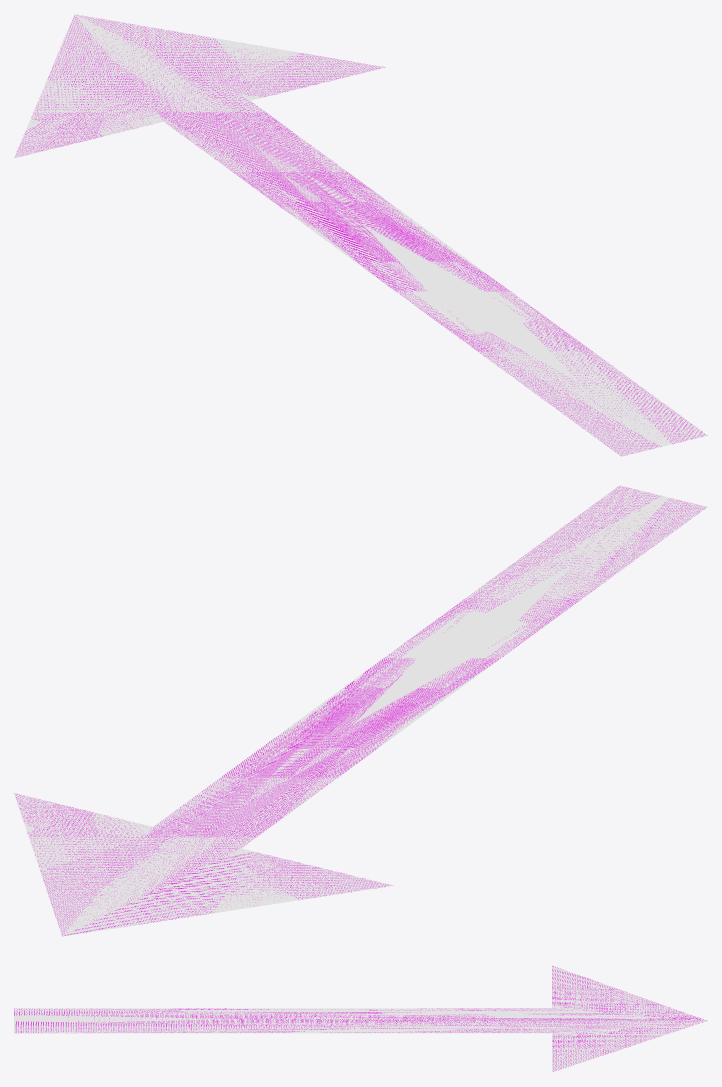
Rendered from pinkarrow.dae.
3 renders of one model, top to bottom at view 1: azimuth 30°, elevation 25°; view 2: azimuth 150°, elevation 25°; view 3: azimuth 270°, elevation 25°, orthographic. The views are drawn at different scales.
Visible parts, largest first — view 1: SketchUp; view 2: SketchUp; view 3: SketchUp.
Boxes of the visible parts, x1,y1,x2,y2 form: SketchUp: (14, 14, 707, 456); SketchUp: (14, 485, 707, 936); SketchUp: (14, 965, 707, 1072).
Bounding box in the file's own units: 168 × 462 × 0.
